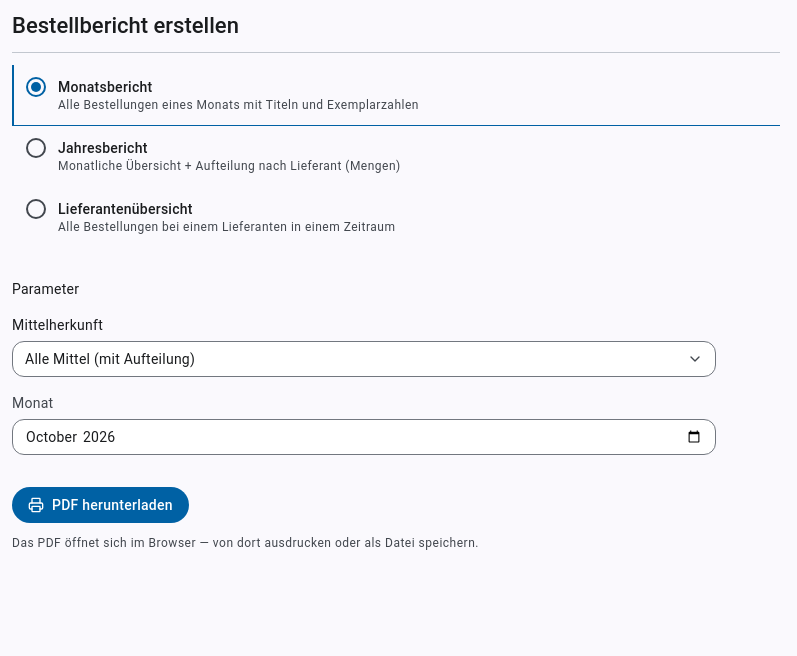
Test: Bestellberichte als eigener Bildschirm › holt die Lieferanten selbst und bietet sie in der Abrechnung an
This screenshot has width=797, height=656.
Note: Die dritte Berichtsart ist die einzige mit Lieferantenauswahl.
What coordinates should you click on to do the following:
click the radio button labelled "Lieferanten"
I would click on:
 (36, 209)
Its box is [16,189,56,229].
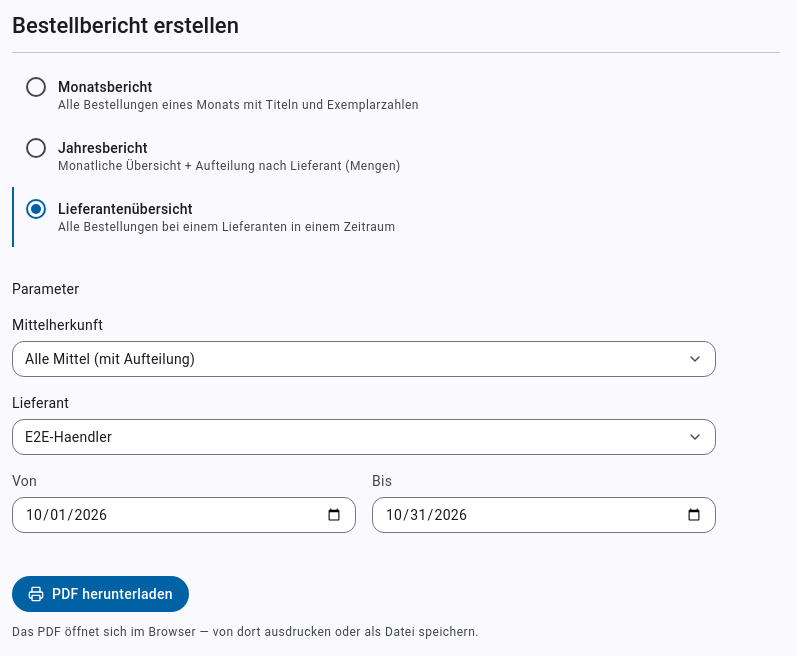
Now the dropdown named "Lieferant" reads "E2E-Haendler", box [12,419,716,455]
